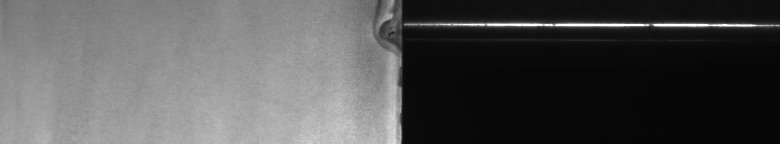hb: (364, 4, 392, 77)
